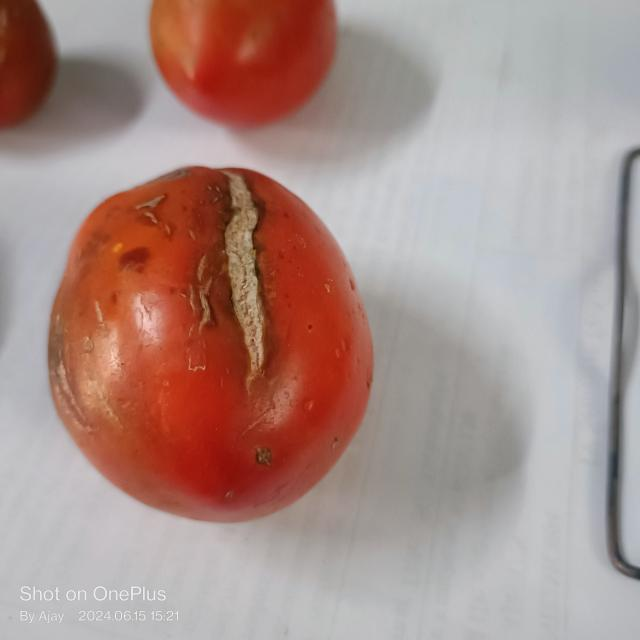tomato_cracking: (220, 154, 277, 382)
